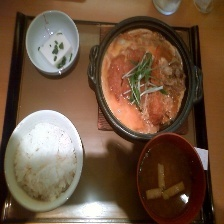rice: (12, 120, 79, 203)
